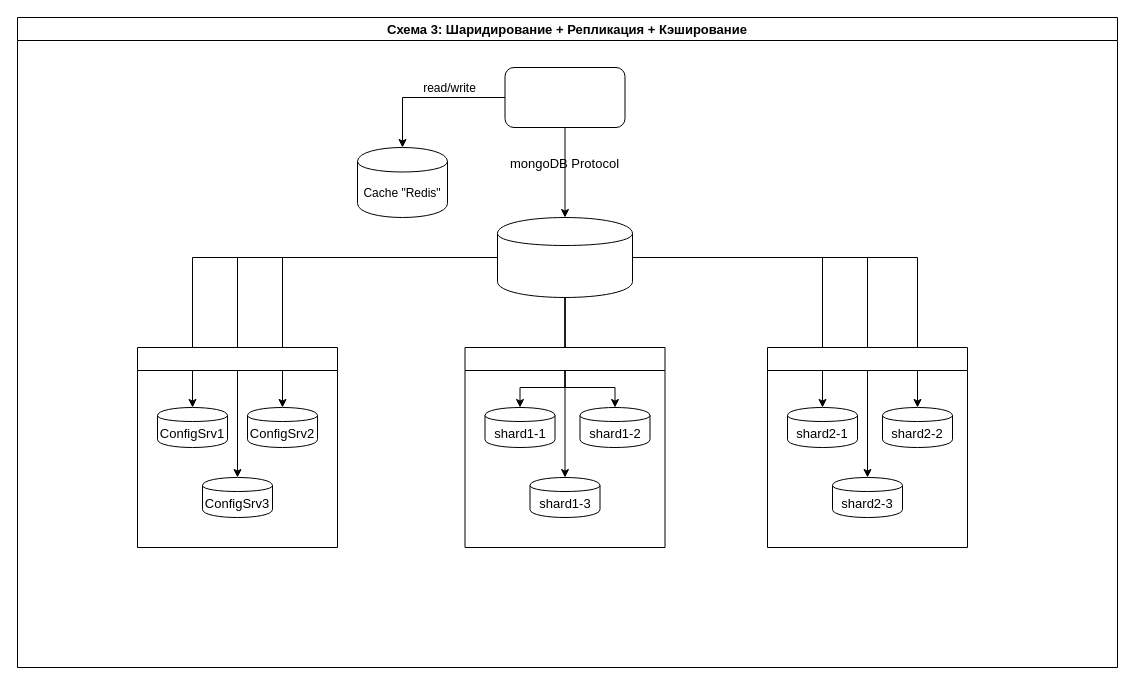
Image size: 1135x685. Some labels were removed from this diagram. The box of each missing label's shape, as (x1, y1, x2, y2) in pixels:
Config Server Repica Set: (136, 346, 338, 548)
Mongos router: (496, 216, 632, 298)
pymongo-api: (504, 66, 625, 128)
Shard 1 Replica Set: (464, 346, 665, 548)
Shard 2 Replica Set: (766, 346, 968, 548)
